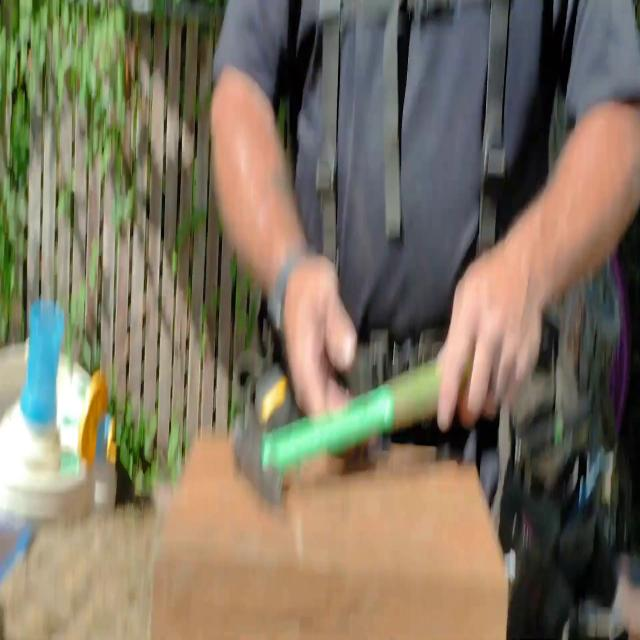hammer: (232, 355, 454, 511)
